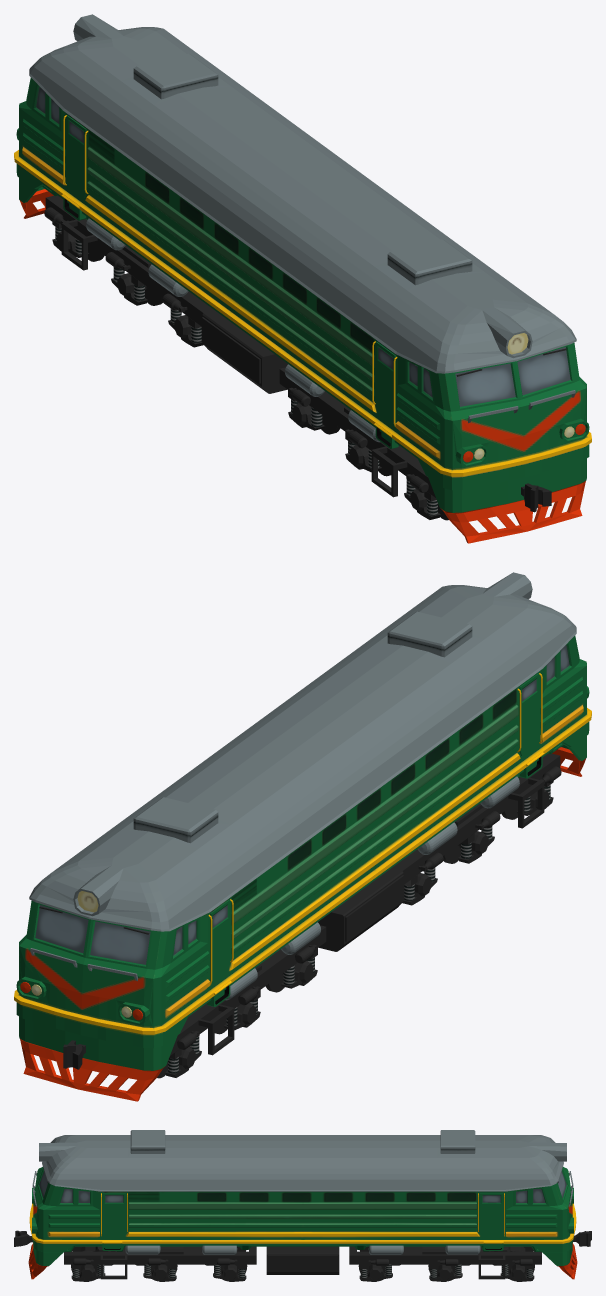
The model's file is locomotive00.glb.
3 renders of one model, top to bottom at view 1: azimuth 30°, elevation 25°; view 2: azimuth 150°, elevation 25°; view 3: azimuth 270°, elevation 25°, orthographic. The views are drawn at different scales.
Visible parts, largest first — view 1: body, chassis002, chassis001; view 2: body, chassis001, chassis002; view 3: body, chassis001, chassis002.
Boxes of the visible parts, x1,y1,x2,y2 form: body: [14, 14, 591, 543]; chassis002: [44, 195, 214, 347]; chassis001: [279, 367, 448, 520]; body: [14, 572, 591, 1101]; chassis001: [391, 753, 561, 905]; chassis002: [157, 925, 326, 1078]; body: [14, 1130, 591, 1279]; chassis001: [64, 1246, 256, 1281]; chassis002: [349, 1246, 541, 1281].
Bounding box in the file's own units: 3.28 × 4.41 × 17.43.
Materials: 2 (2 with a texture image).
